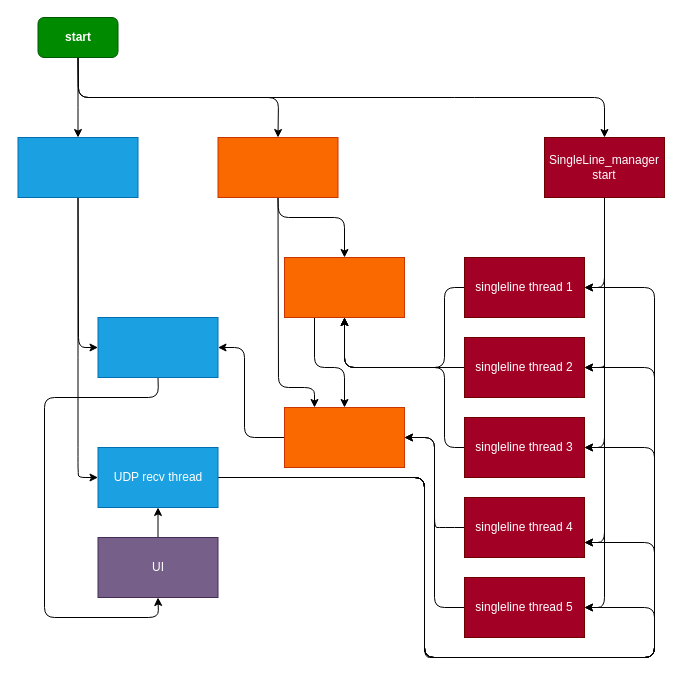
Some shapes in this 682 by 683 pixel diagram are drawn without their labels. The shapes that lost their labels are listed below. From the top down, each one's centre as x and y in pixels, then its label:
At (x=77, y=167): "UI_manager start".
At (x=277, y=167): "Radar_manager start".
At (x=344, y=287): "speed thread".
At (x=157, y=347): "UDP send thread".
At (x=344, y=437): "vehicle thread".
